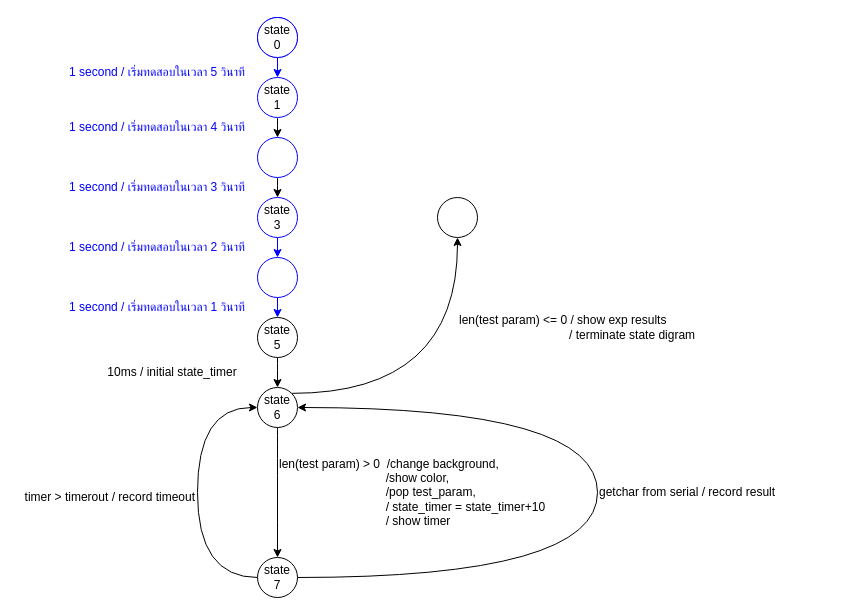
The diagram is 864 pixels wide and 615 high, and some of its shapes have lost their labels. The box of each missing label's shape, as (x1, y1, x2, y2) in pixels:
state 2: (256, 136, 298, 178)
state 4: (256, 256, 298, 298)
state 8: (436, 196, 478, 238)
